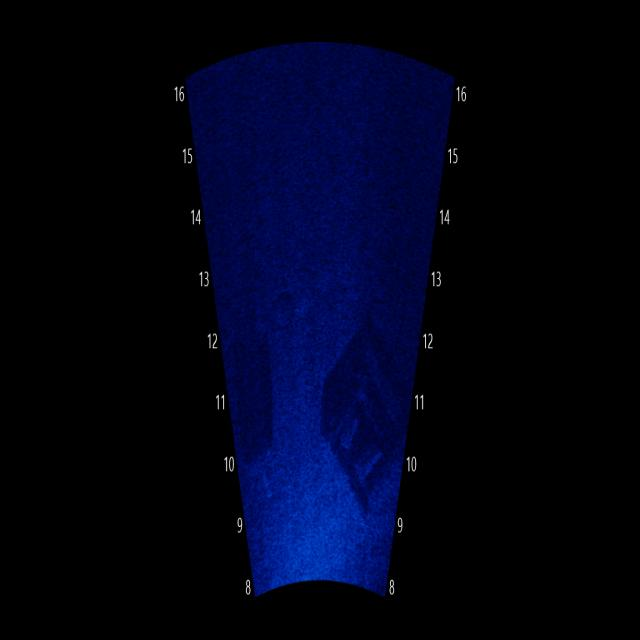square: (311, 294, 429, 516)
